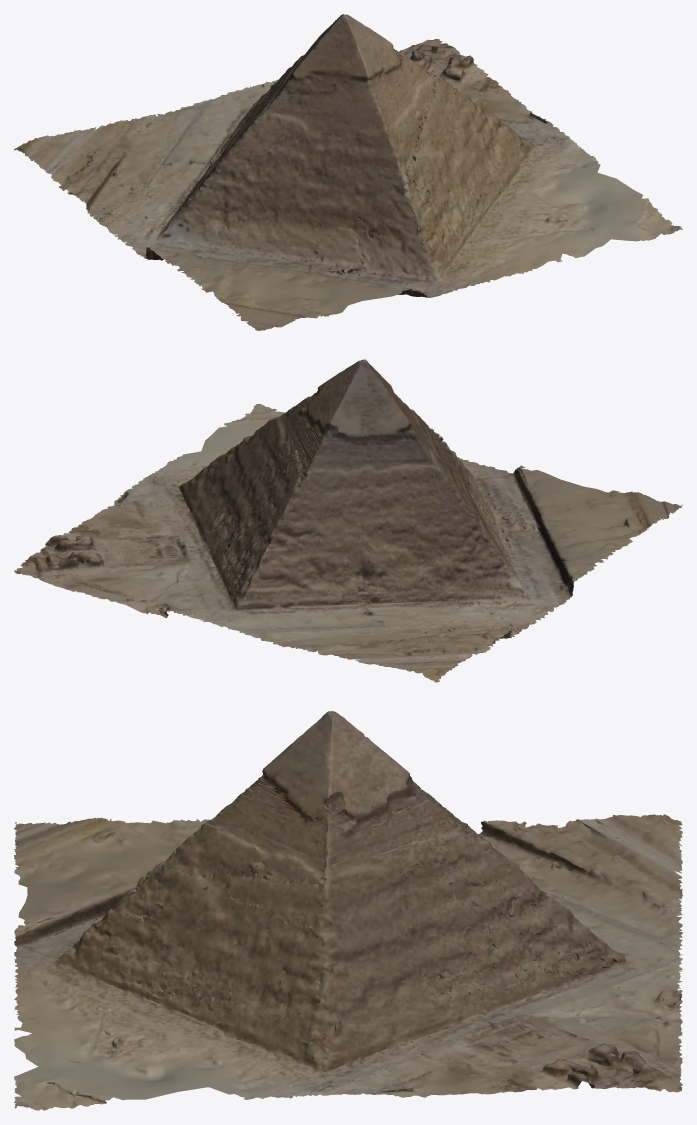
The model's file is khafre.glb.
3 views of the same model, one above another, from view 1: azimuth 30°, elevation 25°; view 2: azimuth 150°, elevation 25°; view 3: azimuth 270°, elevation 25° (orthographic). The views are drawn at different scales.
Bounding box in the file's own units: 2.6 × 1.12 × 2.6.
Materials: 1 (1 with a texture image).
